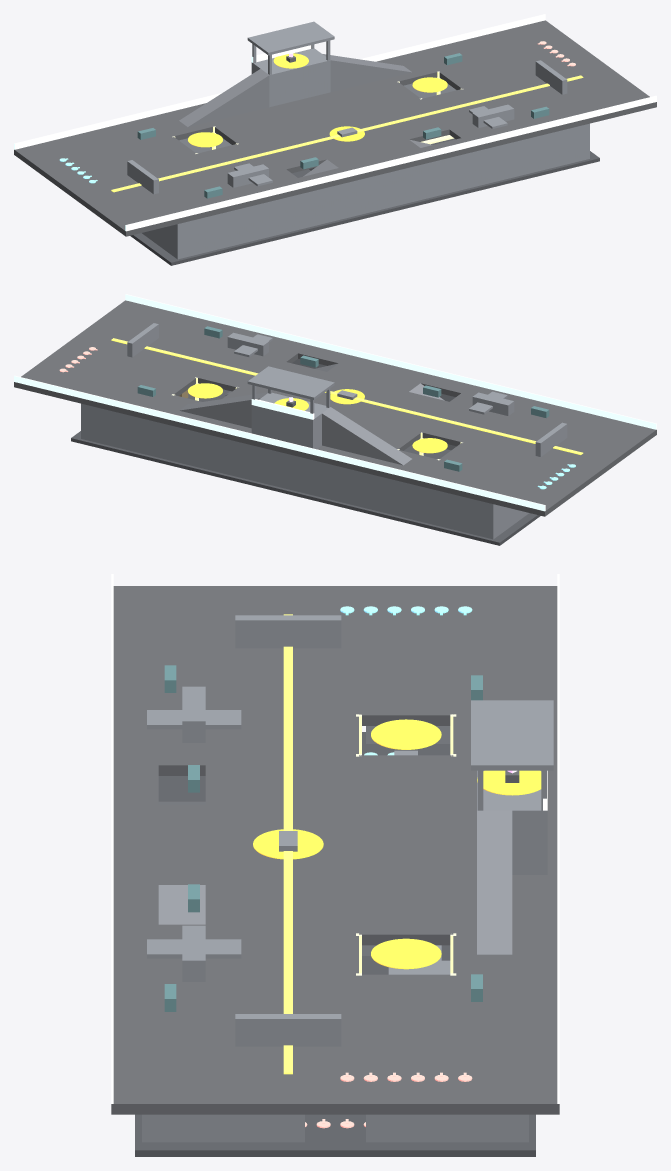
Rendered from hangar_flight_deck.glb.
3 renders of one model, top to bottom at view 1: azimuth 30°, elevation 25°; view 2: azimuth 150°, elevation 25°; view 3: azimuth 270°, elevation 25°, orthographic. The views are drawn at different scales.
Visible parts, largest first — view 1: flight_deck.4, hangar_walls.S0, flight_deck.8, flight_deck.0, flight_deck.6, deck_rail-19, flight_deck.5, flight_deck.7, hangar_floor, deck_rail19, tower_base, tower_ramp_w (+15 smaller); view 2: flight_deck.4, hangar_walls.N0, flight_deck.8, flight_deck.0, deck_rail-19, deck_rail19, hangar_floor, flight_deck.5, flight_deck.7, tower_base, tower_ramp_w, flight_deck.1 (+14 smaller); view 3: flight_deck.4, flight_deck.8, flight_deck.0, flight_deck.6, flight_deck.7, flight_deck.5, hangar_floor, flight_deck.3, flight_deck.1, tower_roof, tower_ramp_e, hangar_walls.E0 (+17 smaller).
Part boxes in pixels (x1=…): flight_deck.4: x1=64, y1=56, x2=632, y2=218; hangar_walls.S0: x1=175, y1=123, x2=589, y2=259; flight_deck.8: x1=14, y1=20, x2=570, y2=173; flight_deck.0: x1=114, y1=93, x2=656, y2=236; flight_deck.6: x1=215, y1=82, x2=420, y2=144; deck_rail-19: x1=125, y1=95, x2=656, y2=231; flight_deck.5: x1=40, y1=137, x2=195, y2=190; flight_deck.7: x1=439, y1=39, x2=594, y2=89; hangar_floor: x1=130, y1=138, x2=599, y2=265; deck_rail19: x1=14, y1=14, x2=545, y2=149; tower_base: x1=251, y1=48, x2=330, y2=107; tower_ramp_w: x1=179, y1=69, x2=269, y2=126; flight_deck.4: x1=64, y1=317, x2=633, y2=479; hangar_walls.N0: x1=81, y1=403, x2=495, y2=539; flight_deck.8: x1=14, y1=362, x2=571, y2=516; flight_deck.0: x1=114, y1=300, x2=656, y2=442; deck_rail-19: x1=125, y1=294, x2=656, y2=429; deck_rail19: x1=14, y1=375, x2=545, y2=511; hangar_floor: x1=71, y1=384, x2=540, y2=545; flight_deck.5: x1=439, y1=442, x2=594, y2=496; flight_deck.7: x1=41, y1=345, x2=195, y2=395; tower_base: x1=251, y1=392, x2=329, y2=449; tower_ramp_w: x1=322, y1=407, x2=411, y2=465; flight_deck.1: x1=450, y1=393, x2=645, y2=451; flight_deck.4: x1=205, y1=586, x2=358, y2=1114; flight_deck.8: x1=453, y1=586, x2=559, y2=1114; flight_deck.0: x1=111, y1=586, x2=158, y2=1114; flight_deck.6: x1=359, y1=755, x2=453, y2=945; flight_deck.7: x1=359, y1=974, x2=453, y2=1114; flight_deck.5: x1=359, y1=586, x2=453, y2=725; hangar_floor: x1=135, y1=732, x2=535, y2=1156; flight_deck.3: x1=158, y1=924, x2=205, y2=1114; flight_deck.1: x1=158, y1=586, x2=205, y2=775; tower_roof: x1=471, y1=700, x2=553, y2=770; tower_ramp_e: x1=477, y1=810, x2=512, y2=954; hangar_walls.E0: x1=142, y1=1114, x2=304, y2=1142.
Bounding box in the file's own units: 104 × 20.1 × 38.
